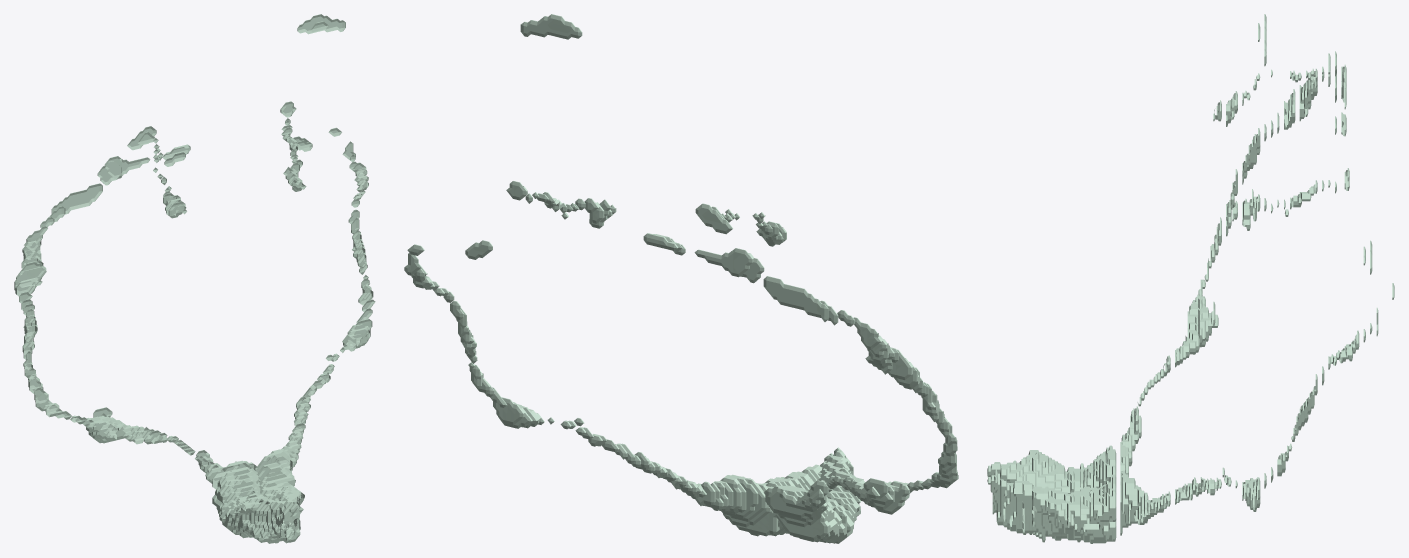
The model's file is SVV_RMED.gltf.
The picture shows the model from 3 angles, left to right: view 1: azimuth 30°, elevation 25°; view 2: azimuth 150°, elevation 25°; view 3: azimuth 270°, elevation 25°; orthographic projection. The views are drawn at different scales.
Parts seen in each view (by area): view 1: RMED; view 2: RMED; view 3: RMED.
Boxes of the visible parts, box(x1,y1,x2,y2) form: RMED: box(14, 14, 375, 543); RMED: box(404, 14, 958, 543); RMED: box(987, 14, 1394, 543).
Bounding box in the file's own units: 73775 × 79400 × 48912.
